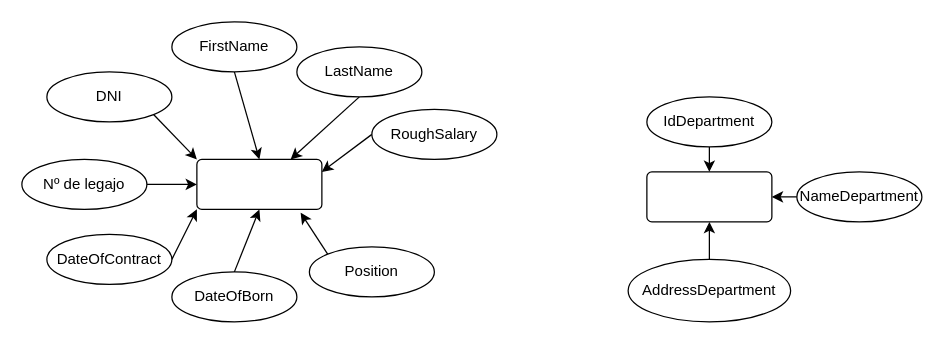
The diagram is 944 pixels wide and 344 high, and some of its shapes have lost their labels. The centre of each missing label's shape, as x and y in pixels:
Department: (709,196)
Employees: (259,183)
